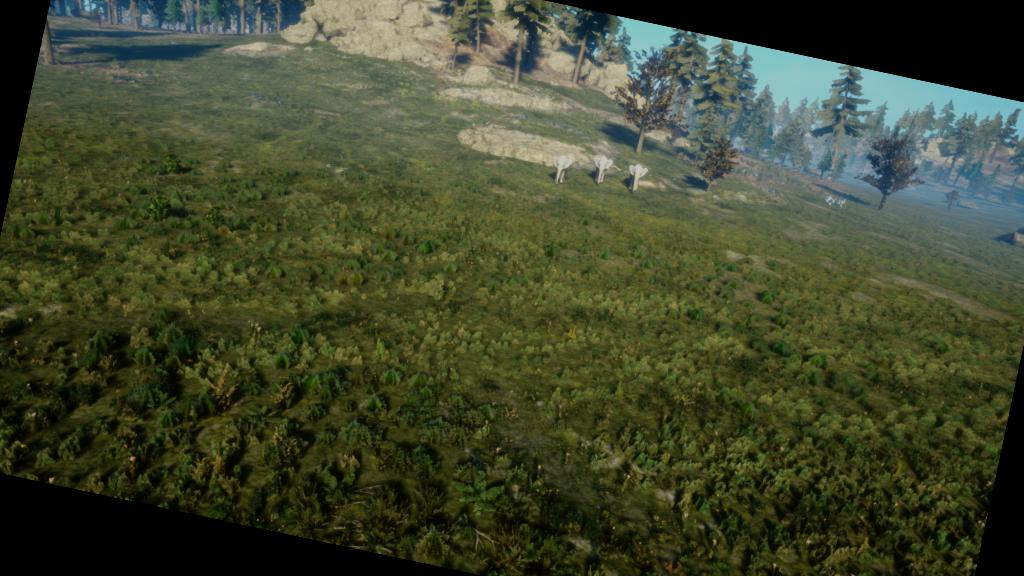elephant: (616, 154, 668, 204), (582, 144, 622, 196), (548, 149, 578, 192)
